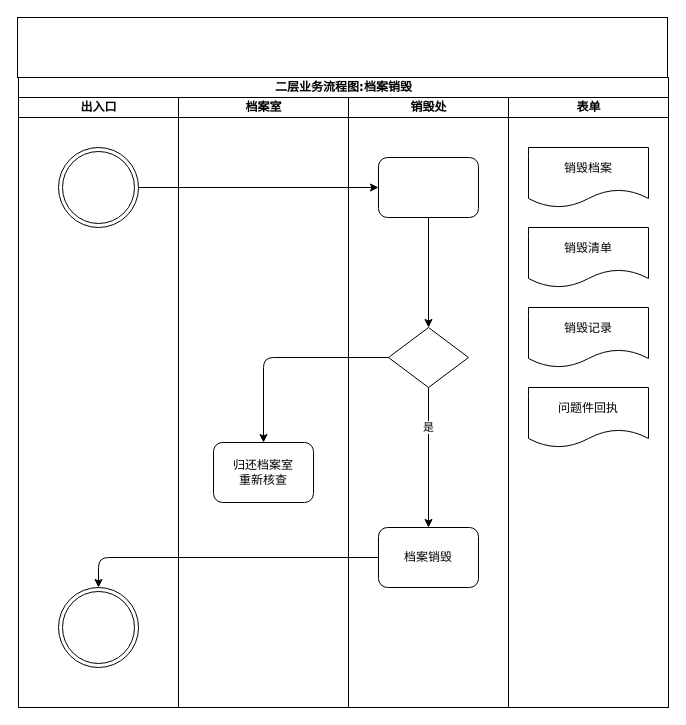
This 686x725 diagram has some shape labels left out. Here are the shapes that lost their labels. From the top down, the centre of each, then its label:
(342,47): 业务名称：中科院遗传与发育研究所档案销毁业务流程图 流程编号：da0104 级别：二级 启动部门：销毁室
(98,187): 开始
(428,187): 销毁清单核实
(428,357): 是否需要销毁
(98,627): 结束
